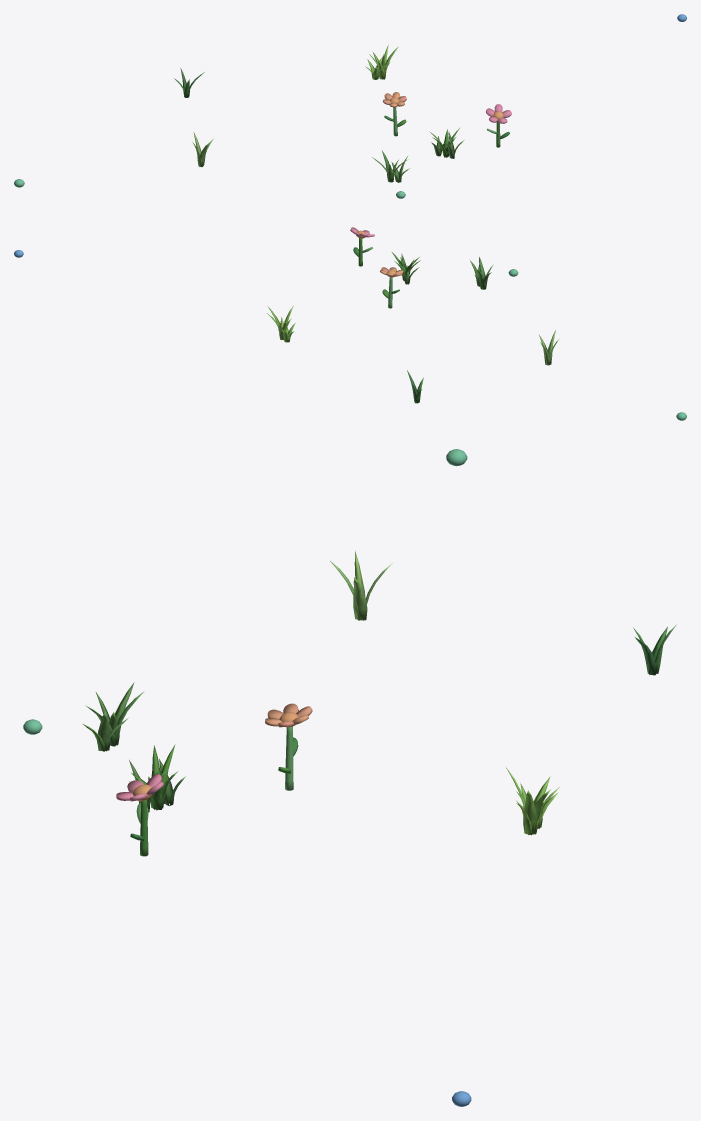
Rendered from W3_FloraRing_10_12.fbx.
3 views of the same model, one above another, from view 1: azimuth 30°, elevation 25°; view 2: azimuth 150°, elevation 25°; view 3: azimuth 270°, elevation 25° (orthographic). The views are drawn at different scales.
Parts seen in each view (by area): view 1: W3_FloraRing_10_12; view 2: W3_FloraRing_10_12; view 3: W3_FloraRing_10_12.
Boxes of the visible parts, x1,y1,x2,y2 form: W3_FloraRing_10_12: (14, 14, 686, 198); W3_FloraRing_10_12: (14, 227, 686, 420); W3_FloraRing_10_12: (23, 449, 676, 1106).
Size of the model in its own units: 3.01 by 0.1733 by 1.27.
